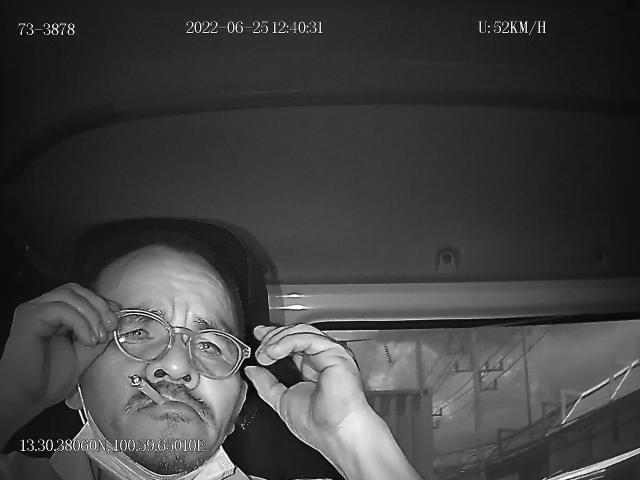SafeDriving: (188, 327, 229, 363), (122, 321, 157, 345)
Smoking: (126, 370, 168, 406)
